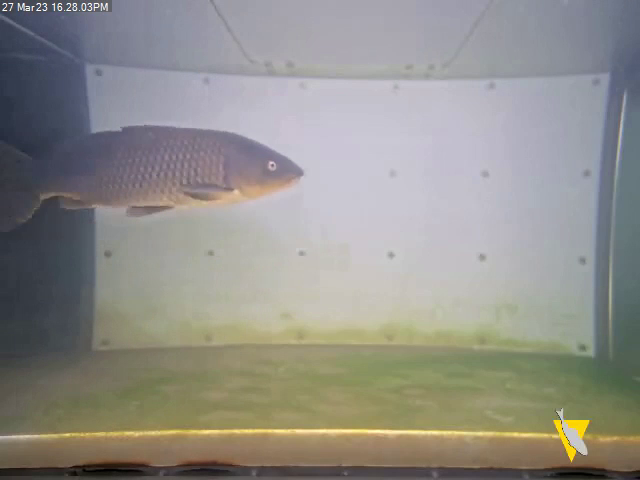\uC789\uC5B4: (2, 117, 309, 246)
